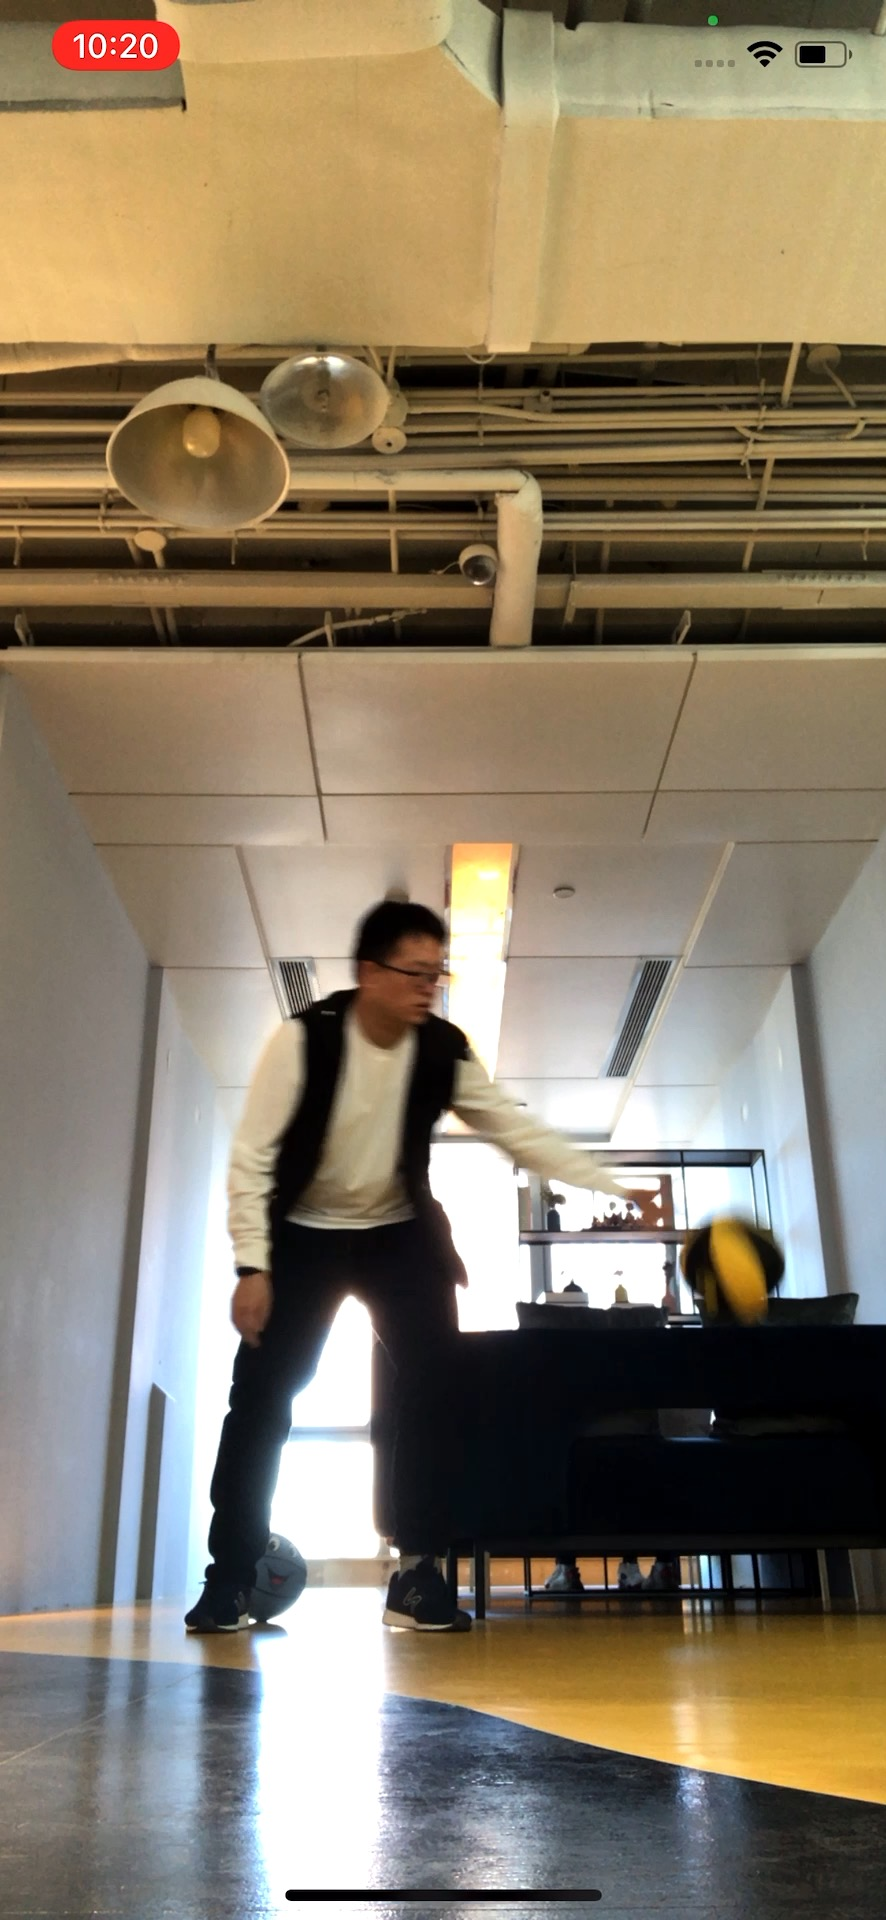ball: (682, 1220, 792, 1327), (244, 1524, 308, 1621)
